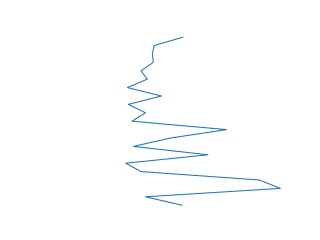crevasseRiverBedLagDeposit: (123, 35, 286, 212)
